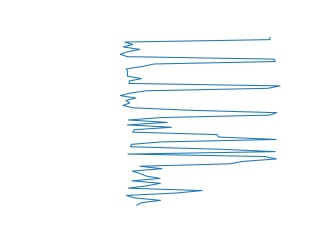crevasseRiverChannelBar: (122, 160, 271, 205)
majorRiverBedLagDeposit: (125, 120, 283, 163)
majorRiverChannelBar: (117, 34, 283, 117)
